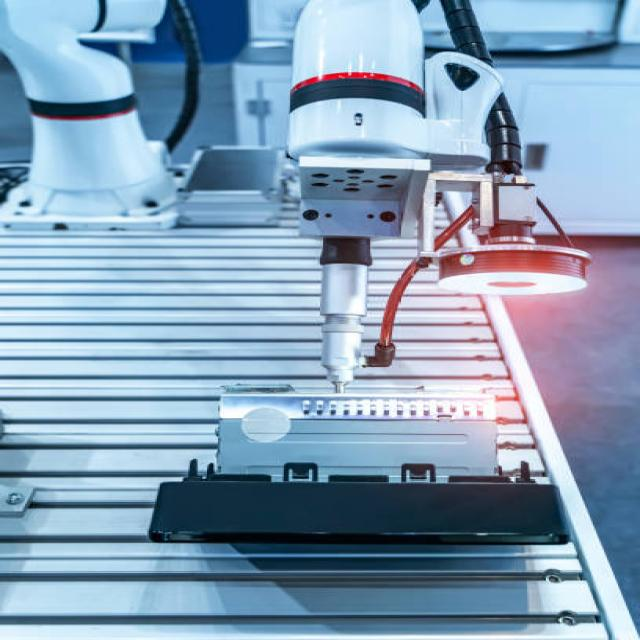Robotic-arm: (0, 0, 582, 360)
